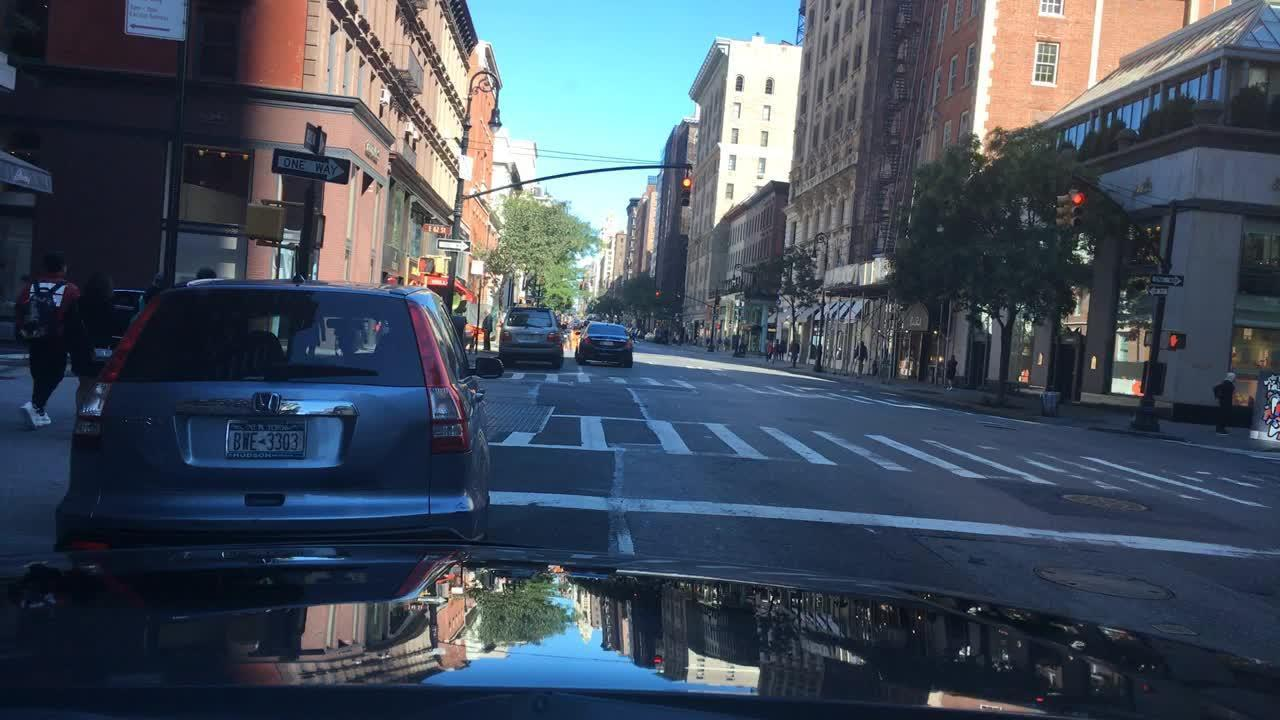Honda: (247, 386, 286, 424)
